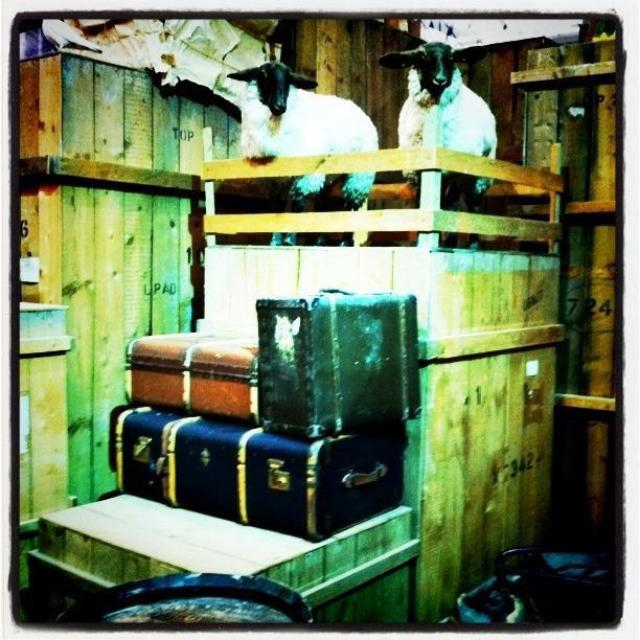Sheep: (381, 42, 498, 190), (229, 64, 379, 159)
